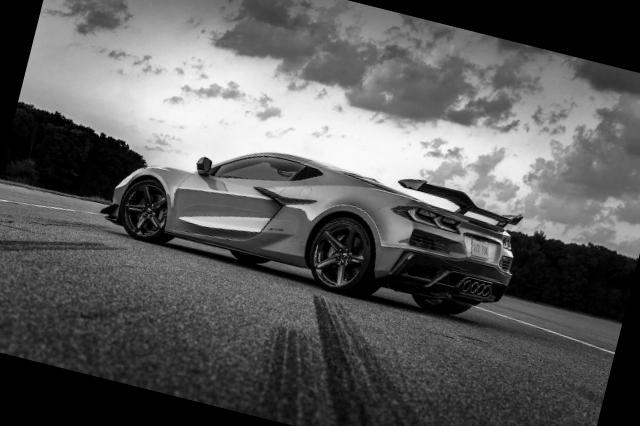sport: (80, 87, 560, 355)
